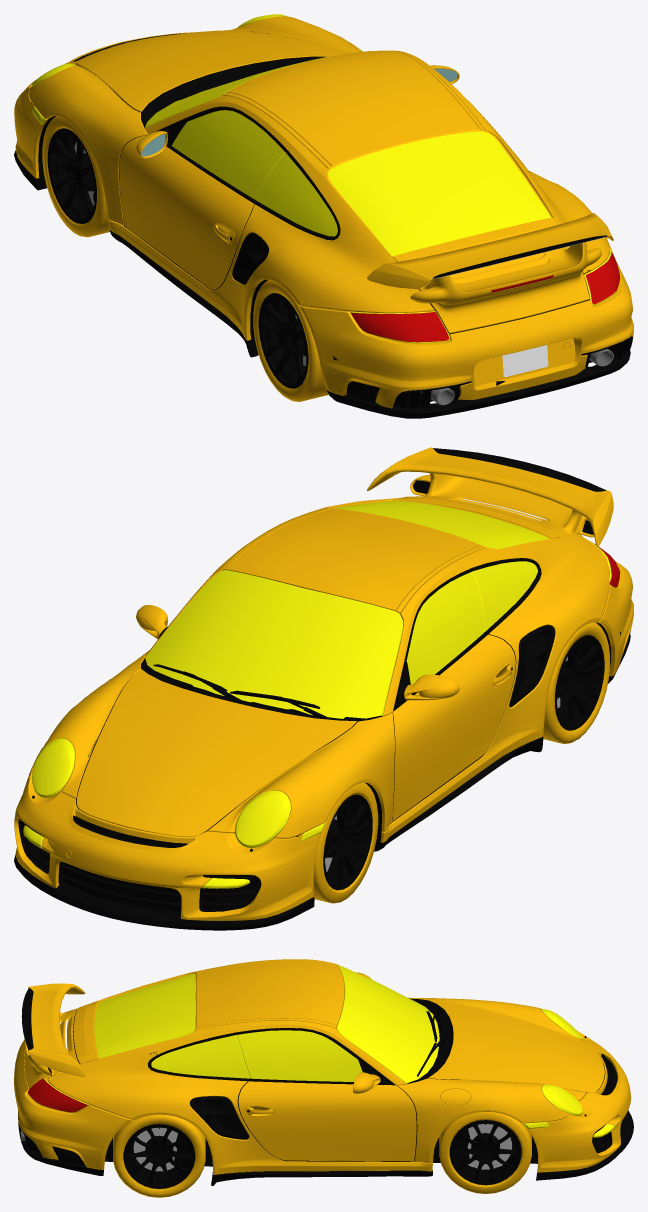
3 renders of one model, top to bottom at view 1: azimuth 30°, elevation 25°; view 2: azimuth 150°, elevation 25°; view 3: azimuth 270°, elevation 25°, orthographic. The views are drawn at different scales.
Visible parts, largest first — view 1: gt2:Mesh, rim:Mesh, wheel:Mesh; view 2: gt2:Mesh, rim:Mesh, wheel:Mesh; view 3: gt2:Mesh, Mesh1_phongE4_0, Mesh_wheel1_0, Mesh1_phongE5_0, Mesh2_lambert1_0.
Boxes of the visible parts, x1=… form: gt2:Mesh: x1=14, y1=14, x2=633, y2=418; rim:Mesh: x1=47, y1=128, x2=308, y2=388; wheel:Mesh: x1=42, y1=116, x2=328, y2=401; gt2:Mesh: x1=14, y1=447, x2=633, y2=930; rim:Mesh: x1=323, y1=635, x2=604, y2=890; wheel:Mesh: x1=313, y1=622, x2=609, y2=903; gt2:Mesh: x1=14, y1=959, x2=633, y2=1185; Mesh1_phongE4_0: x1=123, y1=1120, x2=521, y2=1188; Mesh_wheel1_0: x1=113, y1=1112, x2=531, y2=1197; Mesh1_phongE5_0: x1=133, y1=1124, x2=512, y2=1171; Mesh2_lambert1_0: x1=174, y1=1129, x2=469, y2=1171.
Size of the model in its own units: 1.96 by 1.27 by 4.47.
